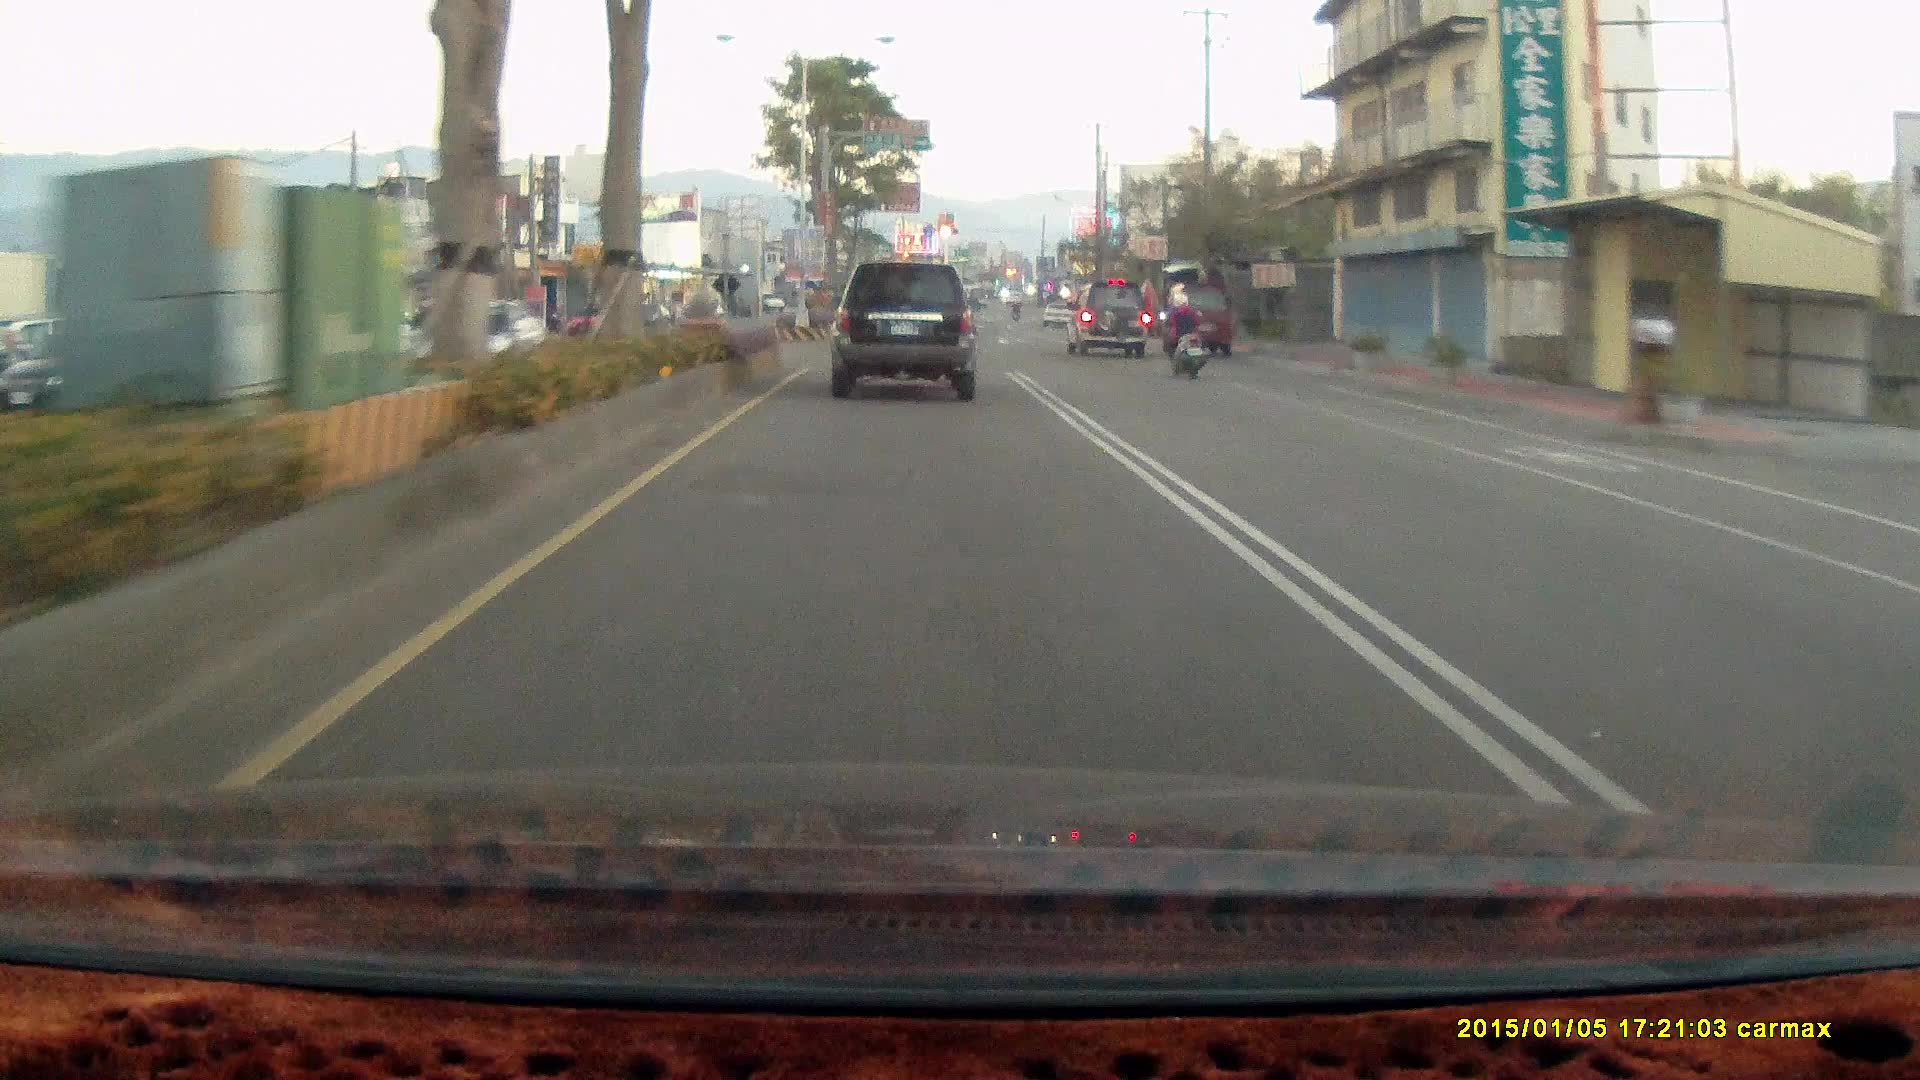rider: (1149, 281, 1218, 387), (1153, 289, 1203, 378)
vehicle: (831, 256, 984, 402), (828, 262, 980, 400), (1070, 279, 1159, 358), (1060, 278, 1148, 355), (1161, 281, 1237, 361), (1160, 279, 1233, 354)
